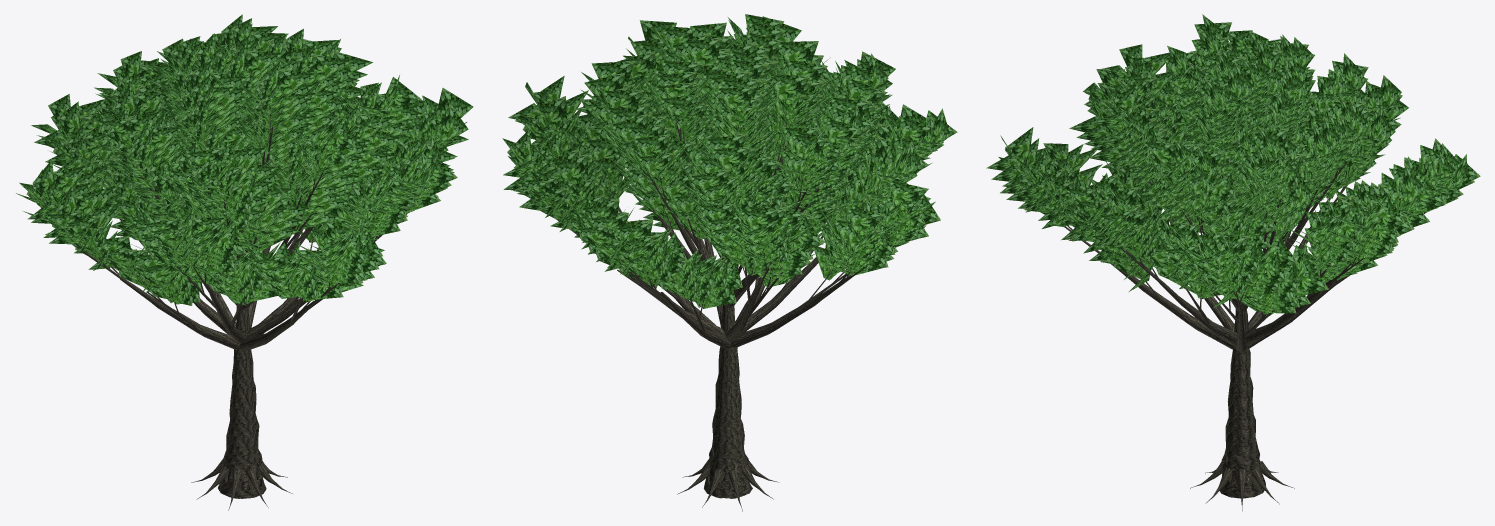
Rendered from tree_medium.obj.
3 renders of one model, left to right at view 1: azimuth 30°, elevation 25°; view 2: azimuth 150°, elevation 25°; view 3: azimuth 270°, elevation 25°, orthographic. The views are drawn at different scales.
Visible parts, largest first — view 1: tree_medium; view 2: tree_medium; view 3: tree_medium.
Boxes of the visible parts, left/top/right/bottom form: tree_medium: left=16, top=14, right=473, bottom=510; tree_medium: left=502, top=14, right=957, bottom=511; tree_medium: left=986, top=14, right=1480, bottom=511.
Size of the model in its own units: 45.52 by 46.65 by 46.15.
2 materials, 2 textured.
